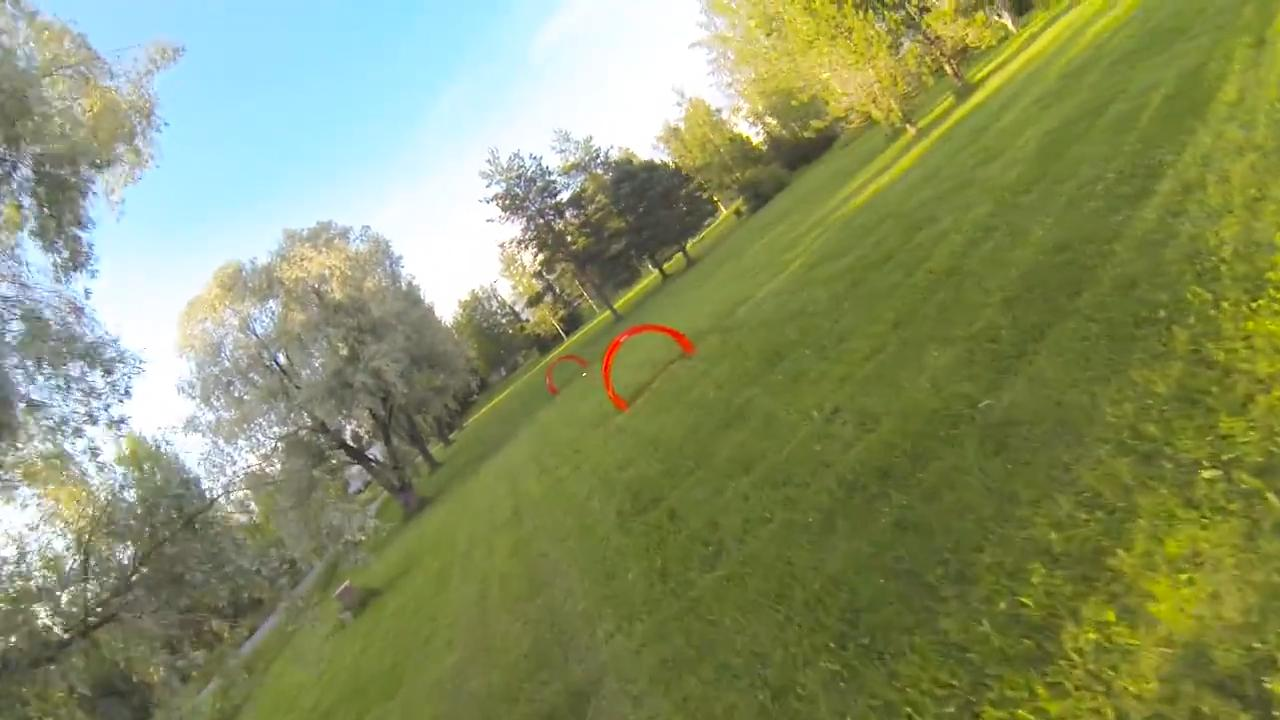gate: (602, 321, 697, 417)
